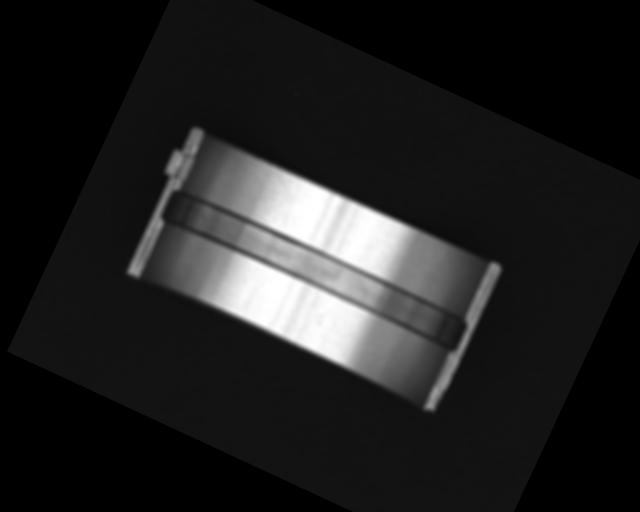gap: (156, 182, 472, 356)
